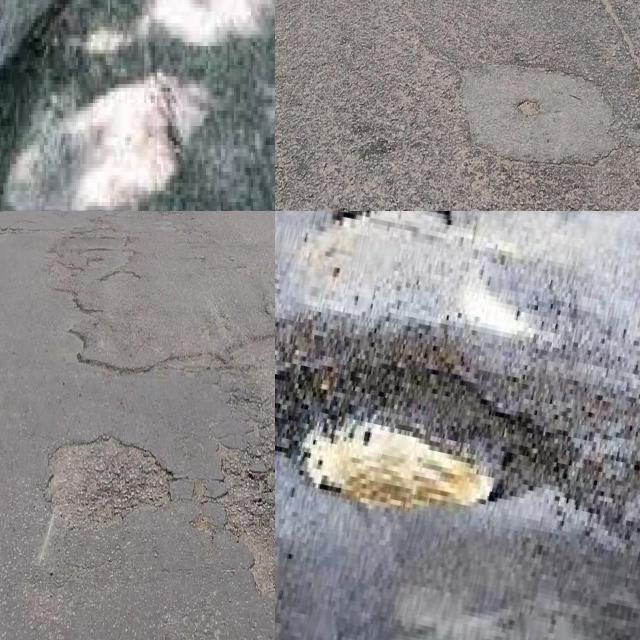Pothole: (275, 361, 575, 512), (302, 423, 493, 510), (44, 428, 174, 533), (448, 257, 545, 335), (222, 499, 275, 612), (336, 211, 448, 233)
